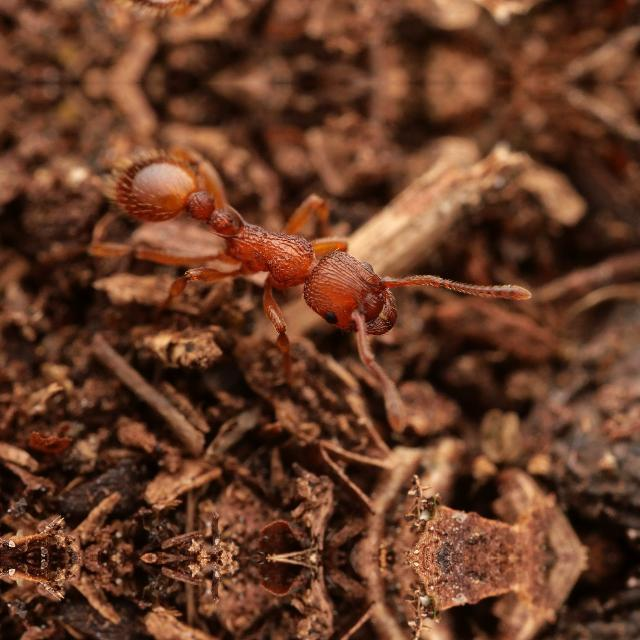Myrmica: (56, 134, 464, 358)
